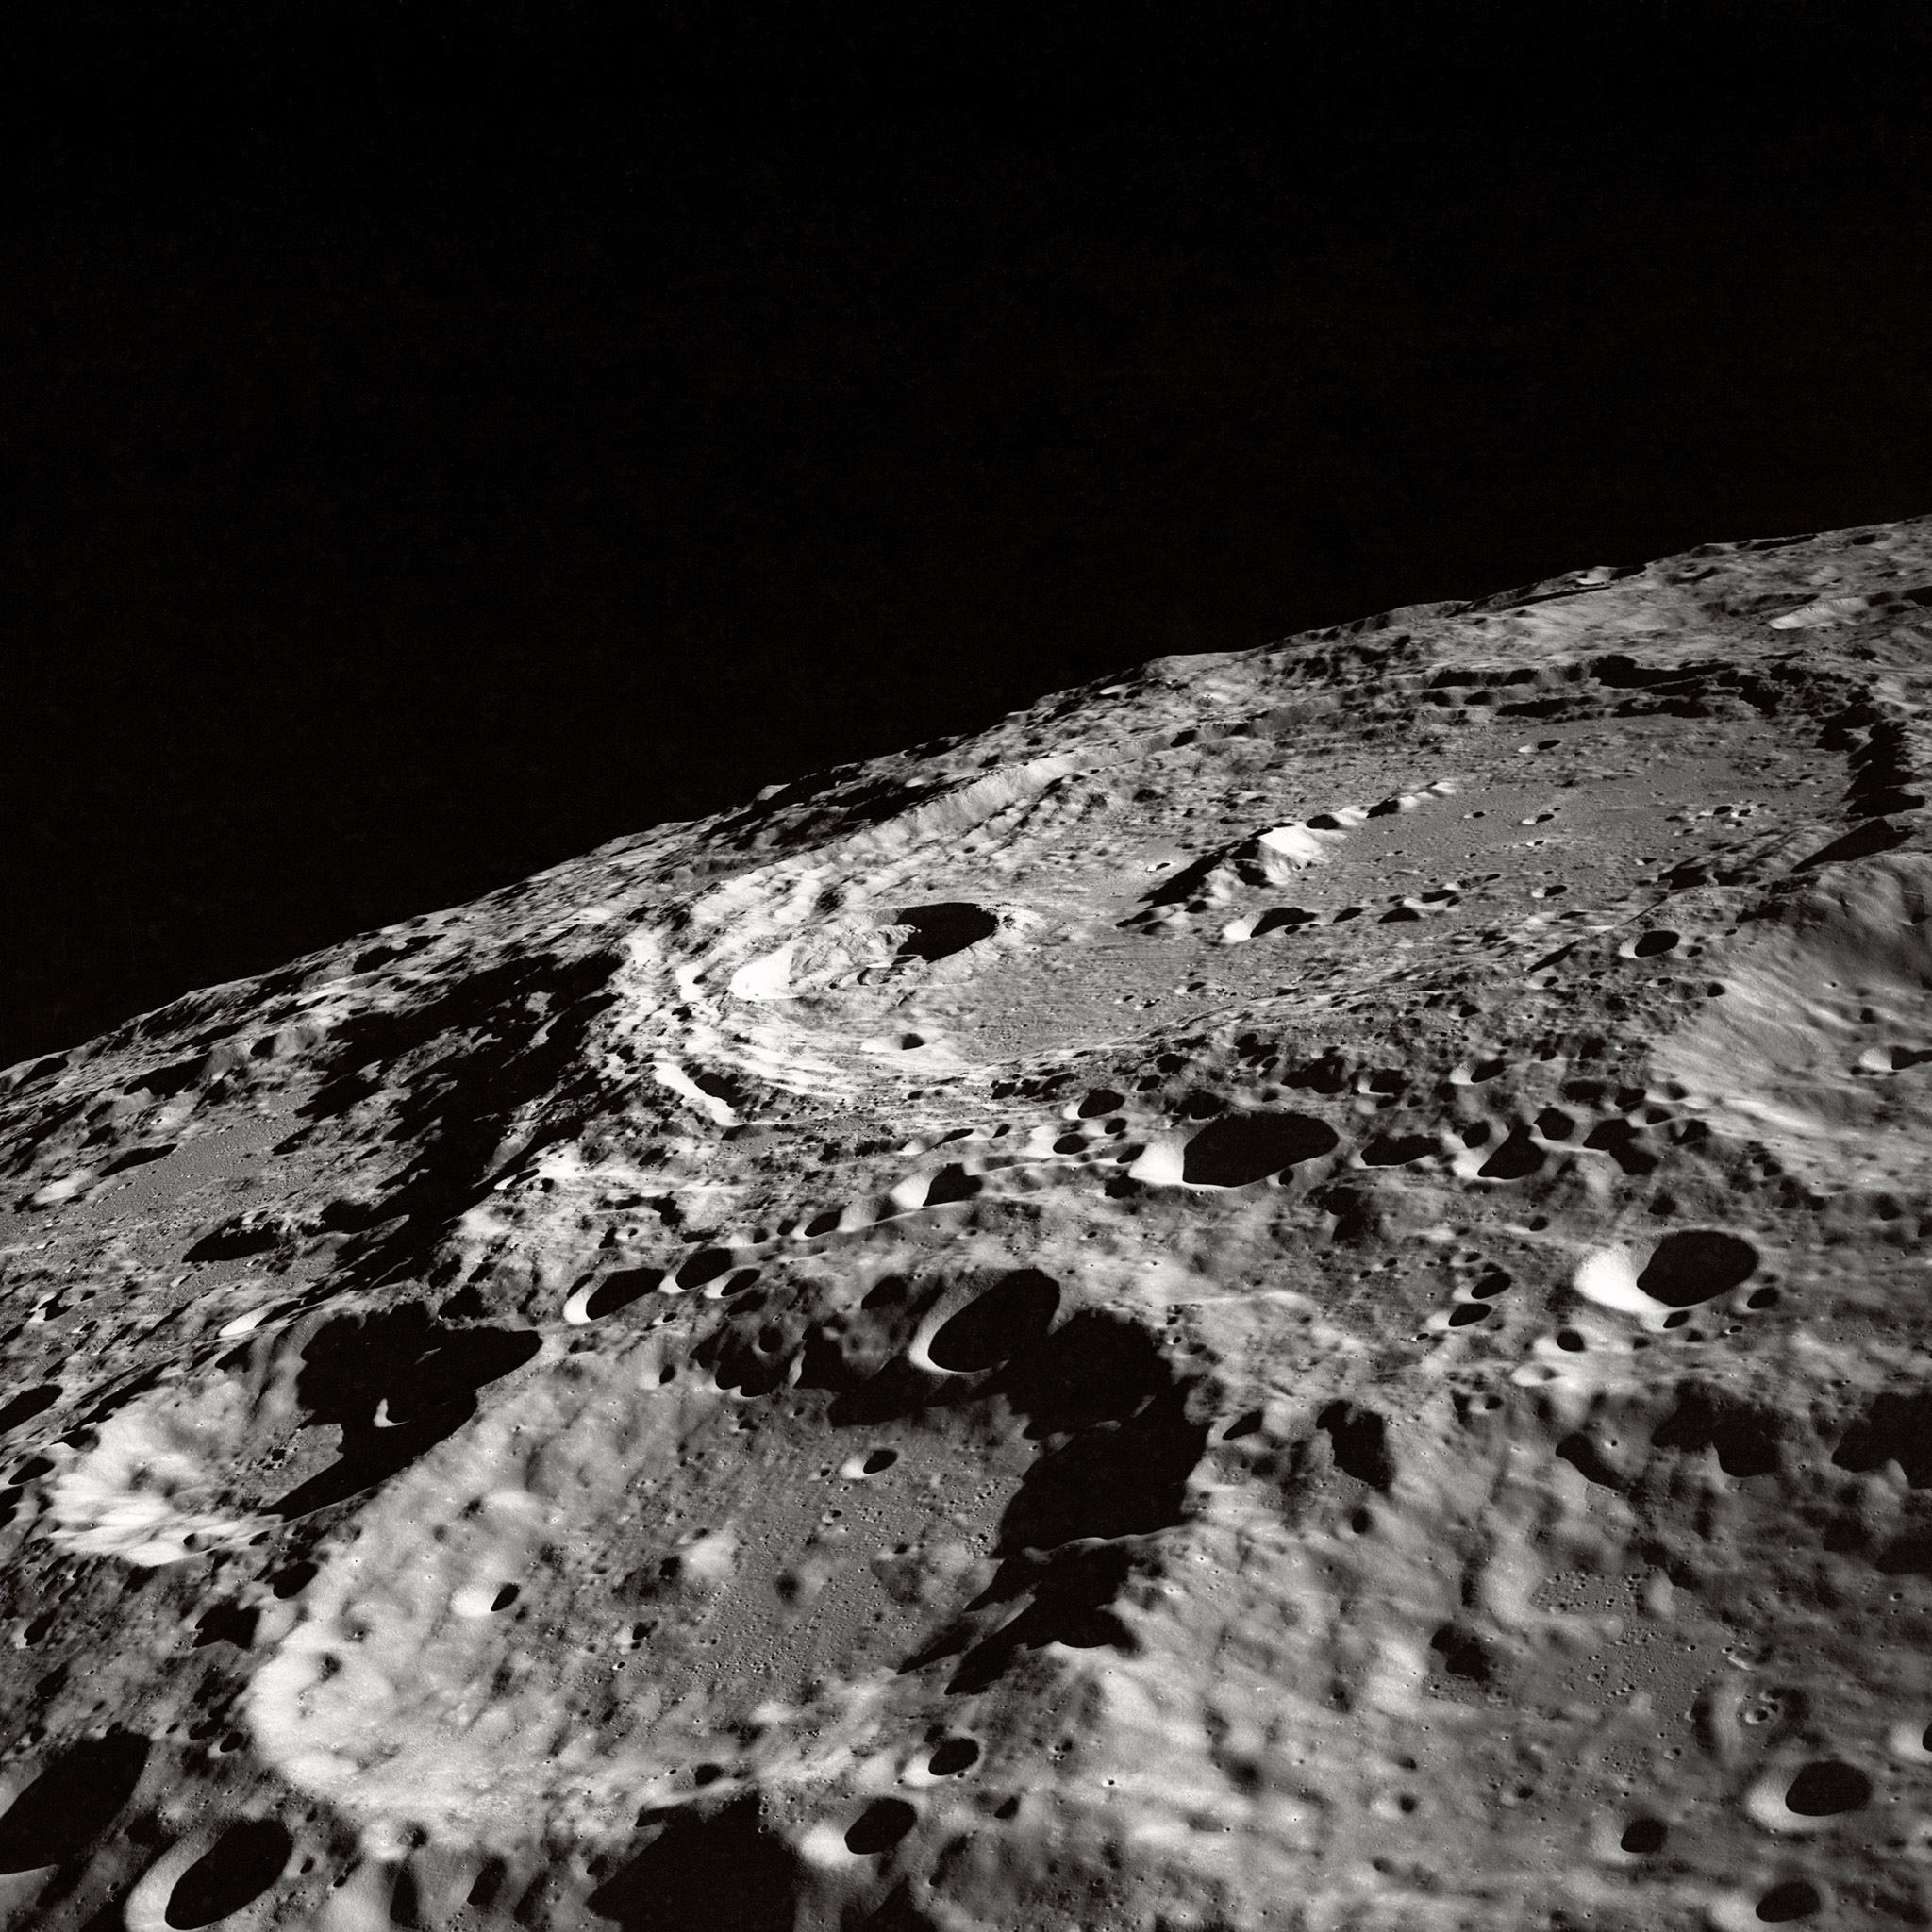crater: (234, 1263, 1467, 1893), (1550, 1214, 1810, 1357)
